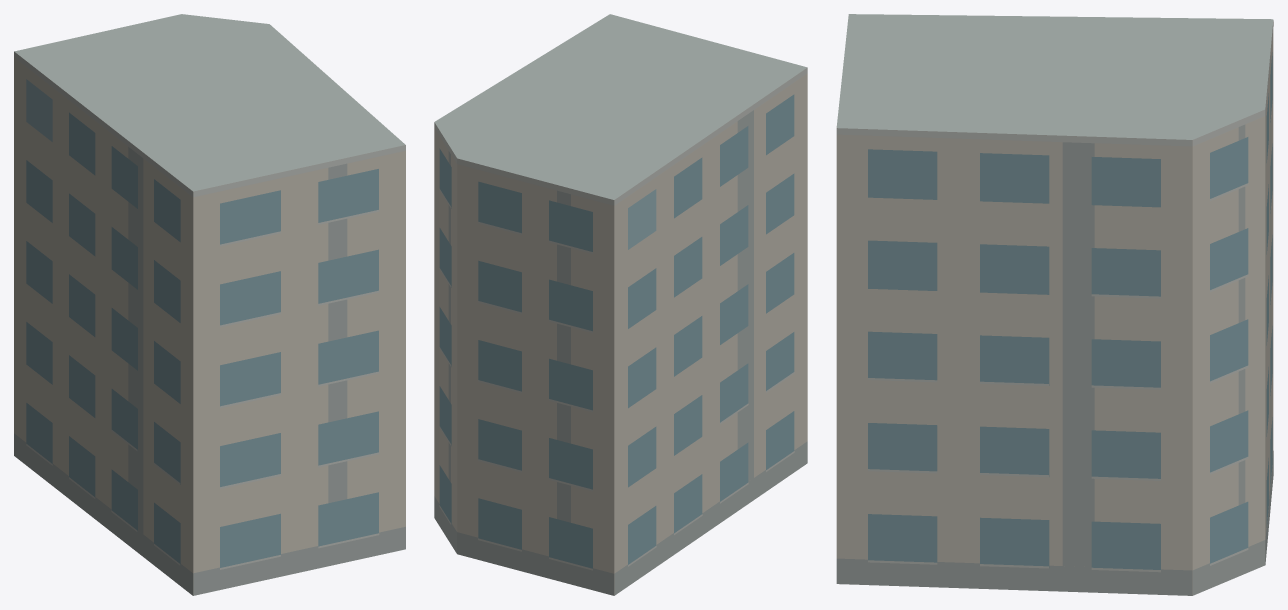
File: survey-upis-32827170.glb
3 renders of one model, left to right at view 1: azimuth 30°, elevation 25°; view 2: azimuth 150°, elevation 25°; view 3: azimuth 270°, elevation 25°, orthographic. The views are drawn at different scales.
Visible parts, largest first — view 1: survey-upis-32827170.tmp; view 2: survey-upis-32827170.tmp; view 3: survey-upis-32827170.tmp.
Part boxes in pixels (x1,y1,x2,y2): survey-upis-32827170.tmp: (14,14,405,595); survey-upis-32827170.tmp: (434,14,807,595); survey-upis-32827170.tmp: (836,14,1273,595).
Bounding box in the file's own units: 10.09 × 17 × 14.78.
